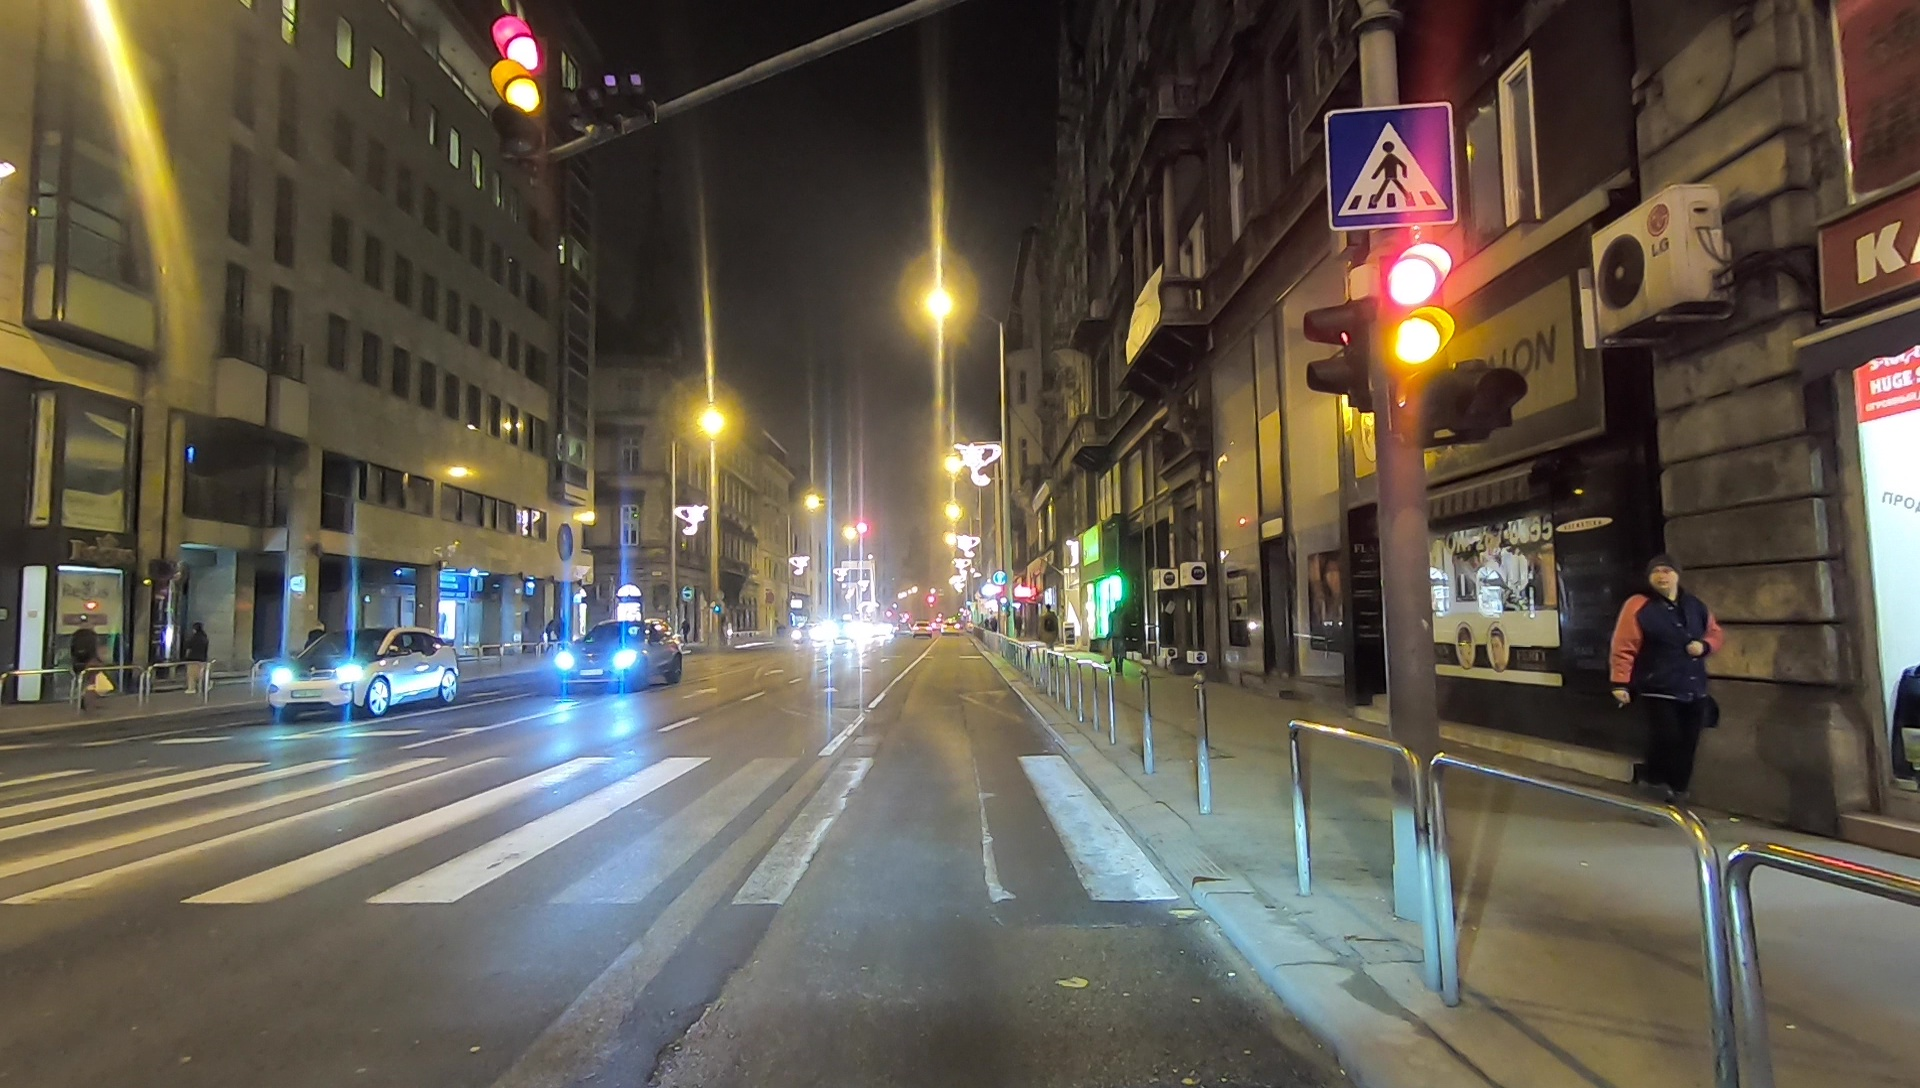person: (1608, 556, 1721, 797), (69, 628, 110, 710), (178, 621, 212, 697), (1102, 600, 1132, 673), (1038, 602, 1058, 650)
